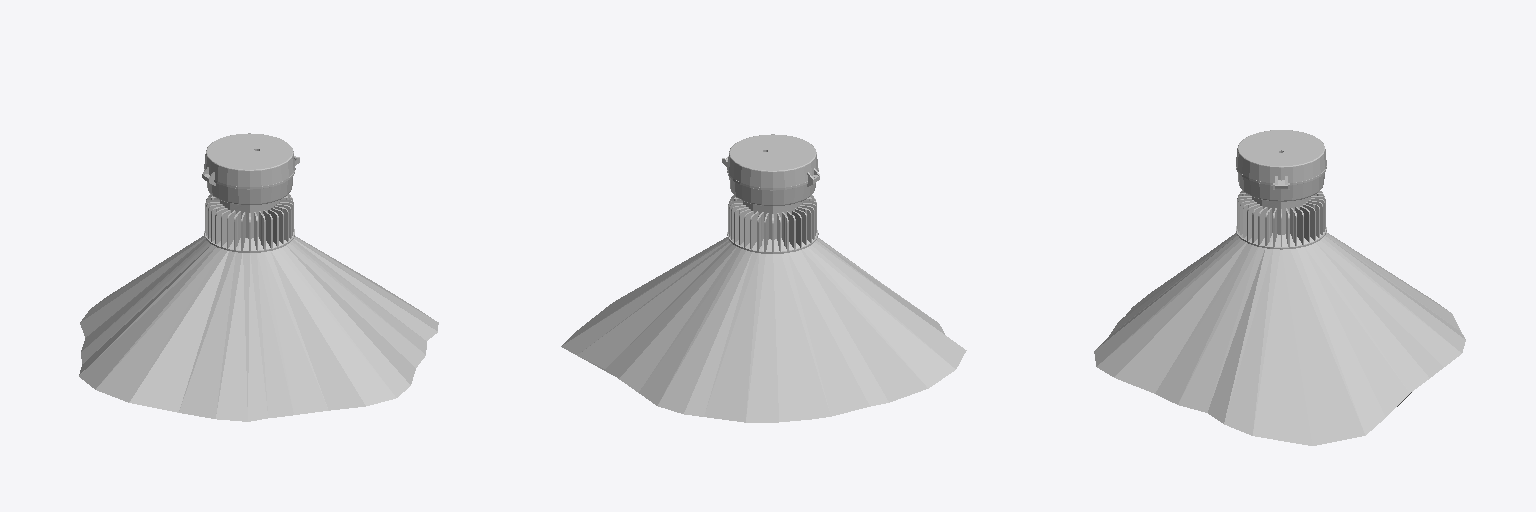
File: vmvl.obj
3 renders of one model, left to right at view 1: azimuth 30°, elevation 25°; view 2: azimuth 150°, elevation 25°; view 3: azimuth 270°, elevation 25°, orthographic.
Visible parts, largest first — view 1: Cylinder, VMV7L2HA_UNV1_; view 2: Cylinder, VMV7L2HA_UNV1_; view 3: Cylinder, VMV7L2HA_UNV1_.
Part boxes in pixels (x1,y1,x2,y2): Cylinder: (79,235,438,421); VMV7L2HA_UNV1_: (202,133,299,252); Cylinder: (561,237,966,422); VMV7L2HA_UNV1_: (722,134,819,253); Cylinder: (1094,232,1465,445); VMV7L2HA_UNV1_: (1236,130,1326,249).
Bounding box in the file's own units: 44.64 × 25.71 × 41.19.